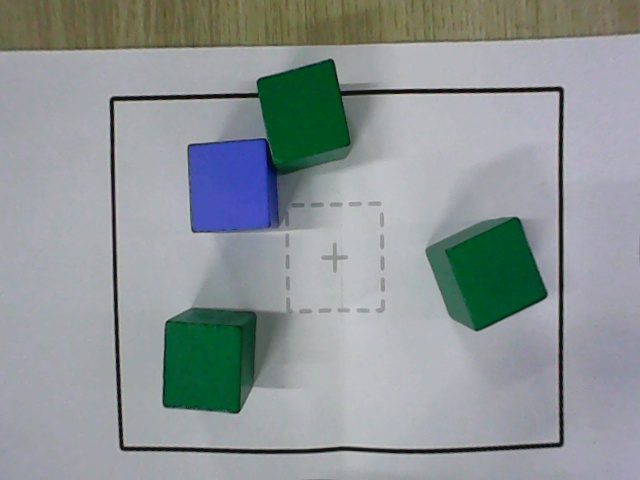upside of small cube: (444, 217, 548, 333), (256, 59, 350, 165), (187, 140, 269, 231), (162, 322, 242, 414)
